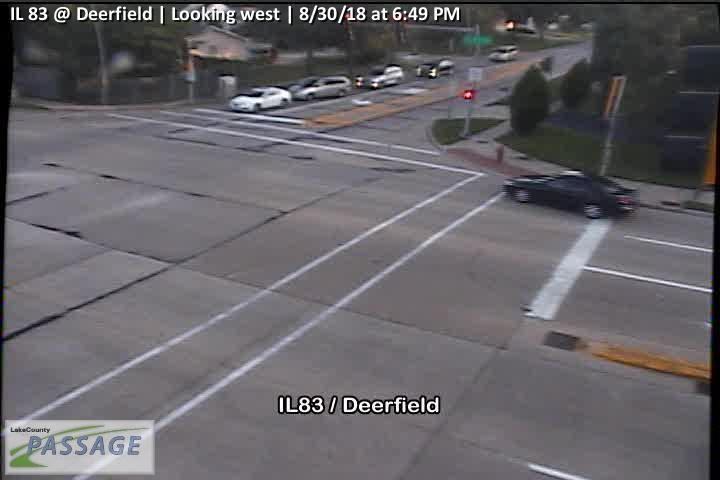SUV: (289, 75, 352, 102), (355, 64, 405, 91), (416, 56, 456, 81)
Sedan: (501, 170, 639, 220), (230, 85, 292, 112)
